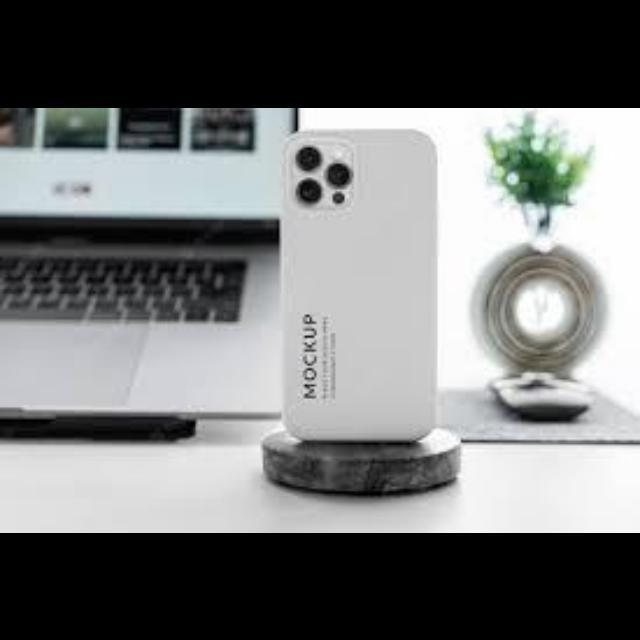phone: (265, 118, 461, 482)
